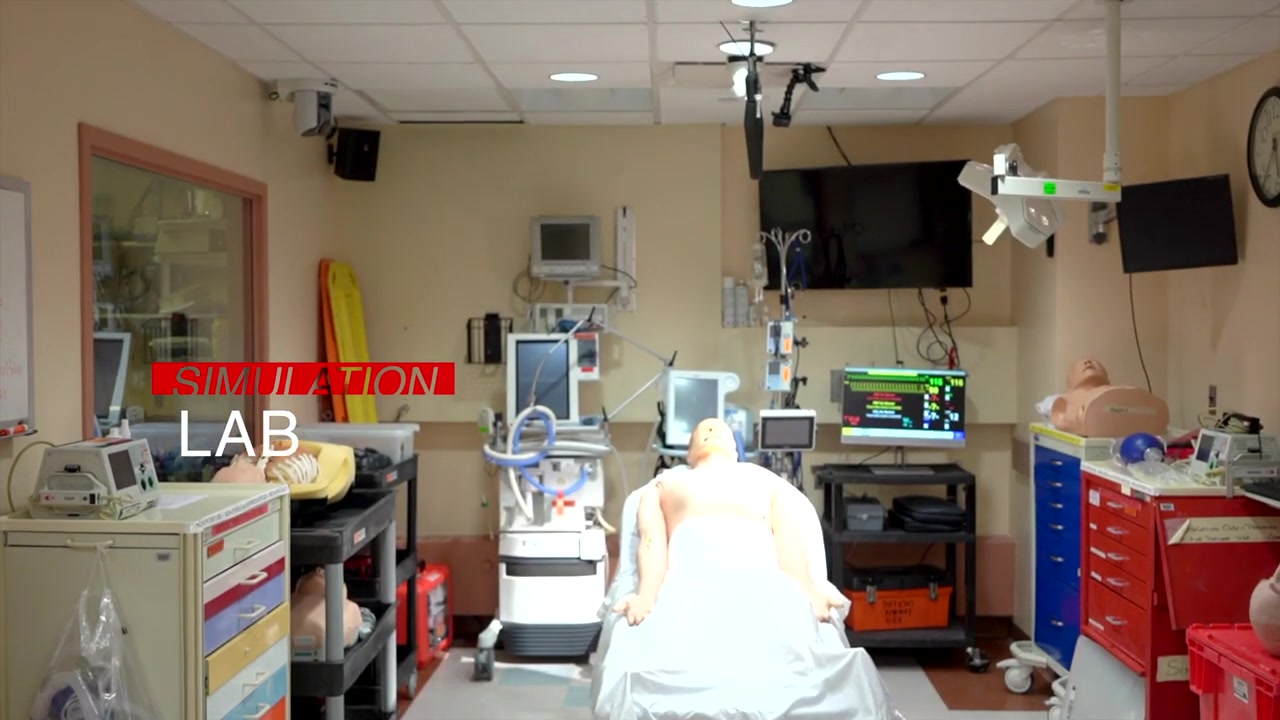TV: (760, 160, 979, 294), (1110, 171, 1236, 271)
bedside_monitor: (843, 364, 968, 434), (662, 367, 748, 447), (537, 218, 602, 276), (757, 410, 817, 448)
breathing_tube: (477, 405, 589, 520)
handle: (232, 600, 267, 623), (1099, 570, 1129, 596), (231, 533, 262, 557), (240, 666, 271, 690), (1033, 618, 1072, 636), (236, 568, 270, 588), (1097, 616, 1134, 634), (239, 702, 272, 720), (1047, 518, 1070, 537), (1095, 498, 1125, 512), (1042, 553, 1068, 569), (1102, 530, 1128, 544), (1045, 457, 1064, 469), (1046, 478, 1063, 490), (1047, 500, 1062, 511)
infusion_pump: (765, 320, 794, 357)
iv_pole: (749, 226, 810, 317)
medical_drawer: (1, 478, 300, 720), (1072, 459, 1280, 720), (1029, 419, 1166, 694)
operating_bed: (593, 418, 879, 720)
surgical_light: (960, 136, 1066, 259)
ventilator: (483, 332, 608, 683)
